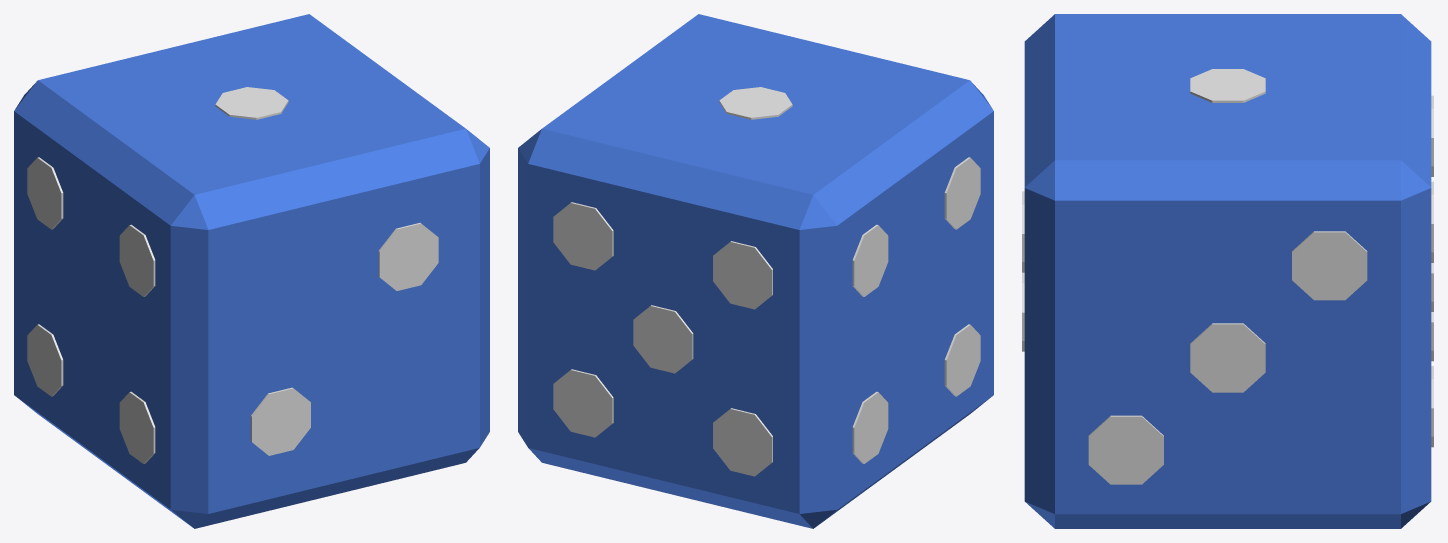
Rendered from GEO_Dice.fbx.
3 renders of one model, left to right at view 1: azimuth 30°, elevation 25°; view 2: azimuth 150°, elevation 25°; view 3: azimuth 270°, elevation 25°, orthographic. The views are drawn at different scales.
Parts seen in each view (by area): view 1: Dice, Dot2, Dot3, Dot6, Dot7, Dot4, Dot5, Dot1; view 2: Dice, Dot11, Dot14, Dot12, Dot13, Dot15, Dot4, Dot5, Dot6, Dot7, Dot1; view 3: Dice, Dot8, Dot9, Dot10, Dot1.
Part boxes in pixels (left/top/right/bottom): Dice: left=14, top=14, right=489, bottom=528; Dot2: left=378, top=223, right=438, bottom=290; Dot3: left=250, top=387, right=310, bottom=455; Dot6: left=27, top=157, right=63, bottom=229; Dot7: left=119, top=391, right=155, bottom=463; Dot4: left=27, top=324, right=63, bottom=396; Dot5: left=119, top=224, right=155, bottom=296; Dot1: left=215, top=87, right=288, bottom=119; Dice: left=518, top=14, right=993, bottom=528; Dot11: left=553, top=369, right=613, bottom=437; Dot14: left=553, top=202, right=613, bottom=270; Dot12: left=633, top=305, right=693, bottom=373; Dot13: left=713, top=241, right=772, bottom=309; Dot15: left=713, top=408, right=772, bottom=476; Dot4: left=852, top=391, right=888, bottom=463; Dot5: left=944, top=157, right=980, bottom=229; Dot6: left=852, top=224, right=888, bottom=296; Dot7: left=944, top=324, right=980, bottom=396; Dot1: left=719, top=87, right=792, bottom=119; Dice: left=1024, top=14, right=1431, bottom=528; Dot8: left=1088, top=415, right=1163, bottom=484; Dot9: left=1292, top=231, right=1367, bottom=300; Dot10: left=1190, top=323, right=1265, bottom=392; Dot1: left=1190, top=69, right=1265, bottom=102.
Size of the model in its own units: 101 by 101 by 101.
